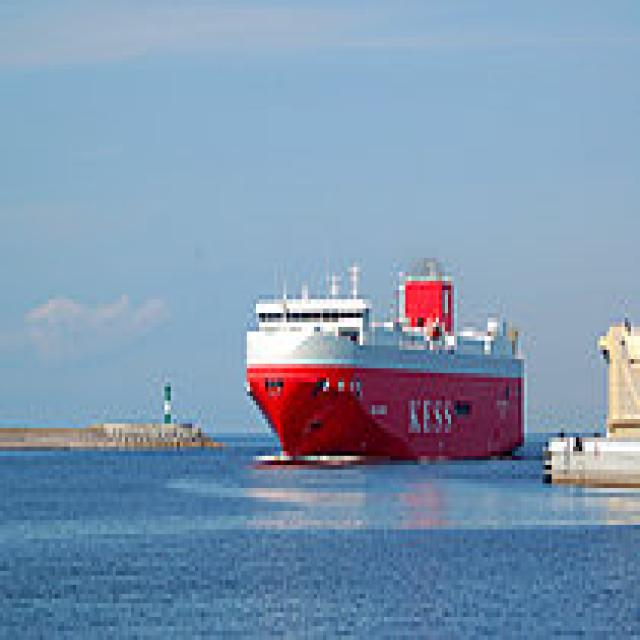Carrier: (238, 244, 527, 465)
